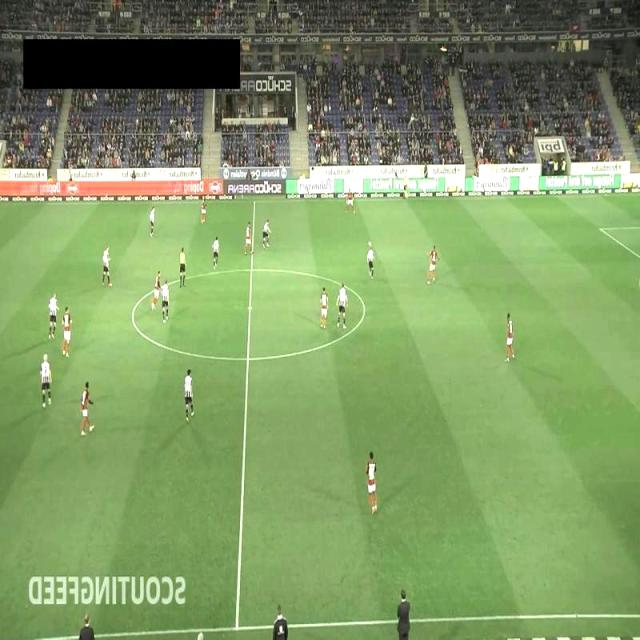bigarea_top_inner: (596, 222, 606, 234)
halfcircle_bottom: (242, 353, 254, 365)
halfcircle_top: (245, 263, 260, 277)
midline_bottom_intersection: (228, 620, 247, 637)
midline_top_intersection: (249, 196, 260, 207)
